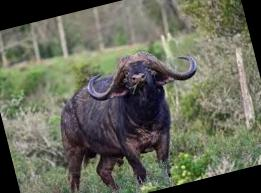Buffalo: (47, 35, 224, 193)
